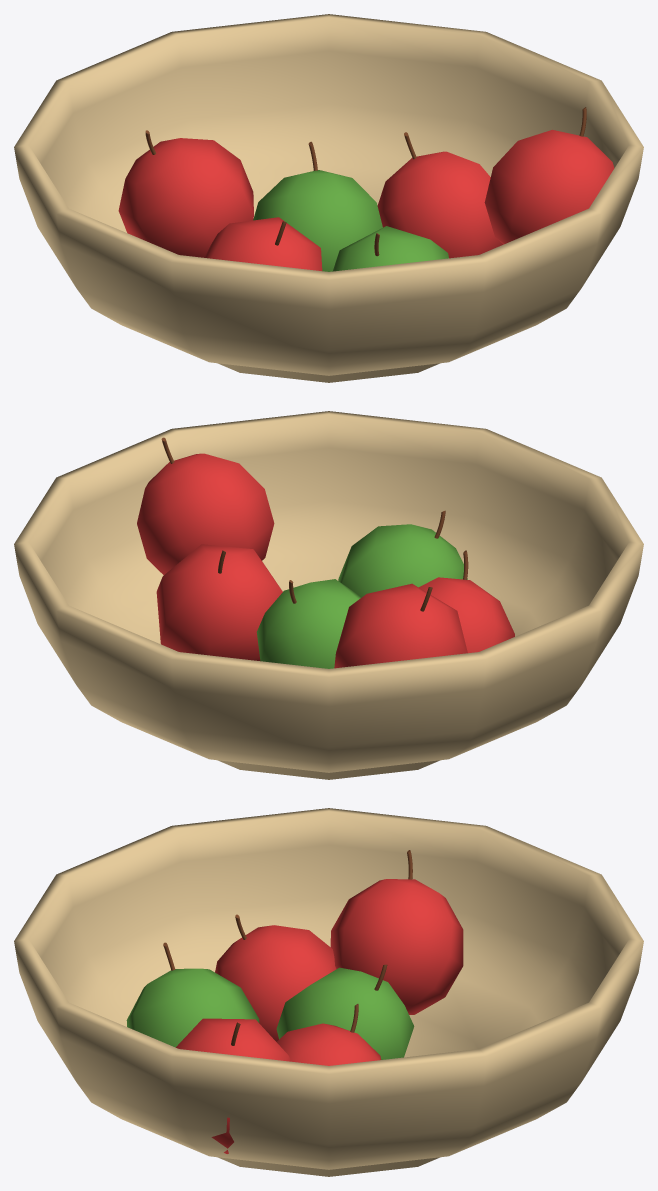
The model's file is Fruit_Bowl.fbx.
3 views of the same model, one above another, from view 1: azimuth 30°, elevation 25°; view 2: azimuth 150°, elevation 25°; view 3: azimuth 270°, elevation 25° (orthographic).
Visible parts, largest first — view 1: Fruit bowl; view 2: Fruit bowl; view 3: Fruit bowl.
Part boxes in pixels (x1=…): Fruit bowl: x1=14, y1=14, x2=643, y2=382; Fruit bowl: x1=14, y1=411, x2=643, y2=779; Fruit bowl: x1=14, y1=808, x2=643, y2=1176.
Size of the model in its own units: 400 by 400 by 128.
